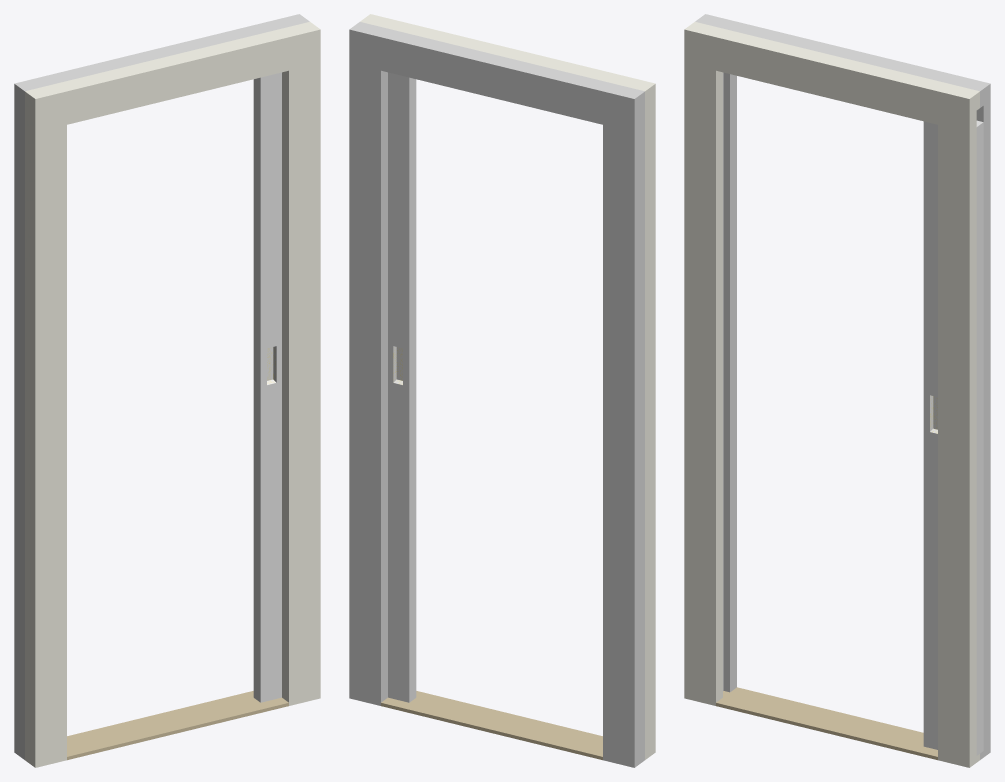
File: puerta_corredera2.glb
3 renders of one model, left to right at view 1: azimuth 30°, elevation 25°; view 2: azimuth 150°, elevation 25°; view 3: azimuth 330°, elevation 25°, orthographic.
Visible parts, largest first — view 1: Object_3, Object_5, Object_2, Object_4; view 2: Object_2, Object_5, Object_3, Object_4; view 3: Object_3, Object_2, Object_5, Object_4.
Part boxes in pixels (<box>): Object_3: <box>25,22,320,767</box>; Object_5: <box>253,72,281,702</box>; Object_2: <box>14,14,309,759</box>; Object_4: <box>67,691,288,760</box>; Object_2: <box>349,22,644,767</box>; Object_5: <box>388,72,416,702</box>; Object_3: <box>360,14,655,759</box>; Object_4: <box>381,691,602,760</box>; Object_3: <box>684,22,979,767</box>; Object_2: <box>695,14,990,759</box>; Object_5: <box>923,120,983,755</box>; Object_4: <box>716,687,937,760</box>.
Bounding box in the file's own units: 94.84 × 212 × 12.2.
